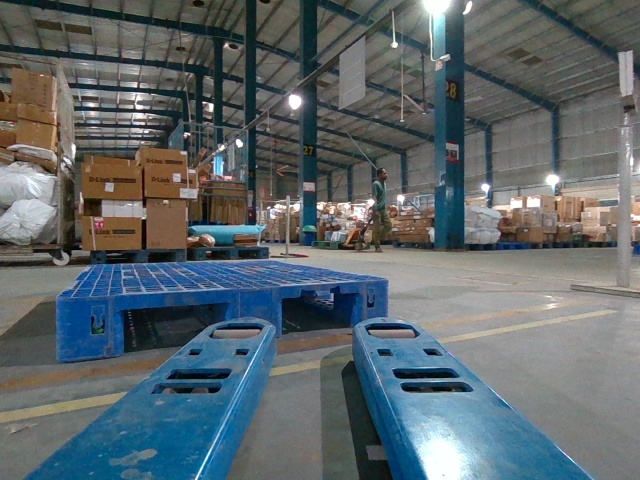block: (54, 295, 124, 361), (225, 288, 284, 335), (353, 282, 386, 328)
front: (57, 281, 389, 356)
hole pallet: (122, 302, 228, 353), (282, 294, 356, 332)
pallet: (57, 278, 387, 358)
